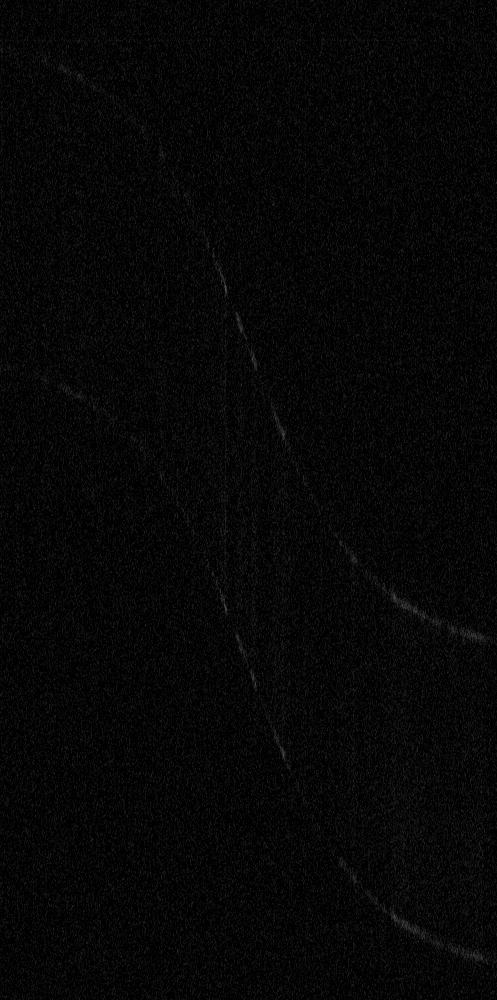signal: (0, 0, 496, 999)
